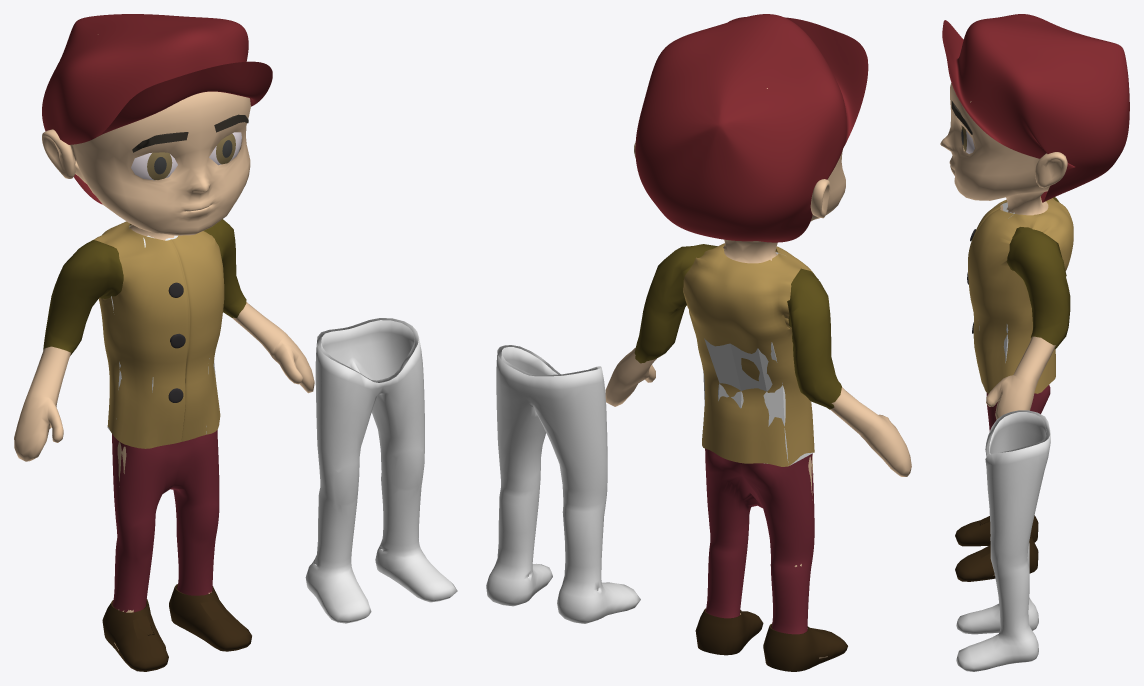
File: Theodoreprueba.fbx
3 views of the same model, side by side, from view 1: azimuth 30°, elevation 25°; view 2: azimuth 150°, elevation 25°; view 3: azimuth 270°, elevation 25° (orthographic). The views are drawn at different scales.
Visible parts, largest first — view 1: Jane_Body.001, Jane_Body, Jane_Clothes2, Sphere, Jane_Body.003, Jane_Body.002, Jane_Shoes, Jene_Eyes, Jane_Eyebrows; view 2: Sphere, Jane_Body.001, Jane_Clothes2, Jane_Body.003, Jane_Body.002, Jane_Body, Jane_Shoes, Plane; view 3: Sphere, Jane_Body.001, Jane_Clothes2, Jane_Body, Jane_Body.002, Jane_Shoes, Jane_Body.003.
Boxes of the visible parts, x1=… form: Jane_Body.001: x1=305, y1=318, x2=457, y2=623; Jane_Body: x1=14, y1=34, x2=314, y2=650; Jane_Clothes2: x1=94, y1=221, x2=224, y2=448; Sphere: x1=42, y1=14, x2=272, y2=204; Jane_Body.003: x1=112, y1=430, x2=219, y2=612; Jane_Body.002: x1=43, y1=219, x2=246, y2=355; Jane_Shoes: x1=102, y1=584, x2=251, y2=671; Jene_Eyes: x1=131, y1=132, x2=241, y2=180; Jane_Eyebrows: x1=132, y1=114, x2=248, y2=152; Sphere: x1=635, y1=14, x2=868, y2=242; Jane_Body.001: x1=486, y1=345, x2=640, y2=623; Jane_Clothes2: x1=683, y1=243, x2=815, y2=466; Jane_Body.003: x1=705, y1=448, x2=814, y2=634; Jane_Body.002: x1=634, y1=244, x2=841, y2=409; Jane_Body: x1=605, y1=88, x2=911, y2=658; Jane_Shoes: x1=695, y1=608, x2=847, y2=671; Plane: x1=702, y1=252, x2=813, y2=465; Sphere: x1=942, y1=14, x2=1129, y2=202; Jane_Body.001: x1=956, y1=410, x2=1050, y2=671; Jane_Clothes2: x1=967, y1=196, x2=1073, y2=393; Jane_Body: x1=940, y1=83, x2=1067, y2=575; Jane_Body.002: x1=1006, y1=197, x2=1070, y2=349; Jane_Shoes: x1=955, y1=515, x2=1038, y2=581; Jane_Body.003: x1=986, y1=385, x2=1050, y2=431.
Bounding box in the file's own units: 2590 × 3700 × 1181.
